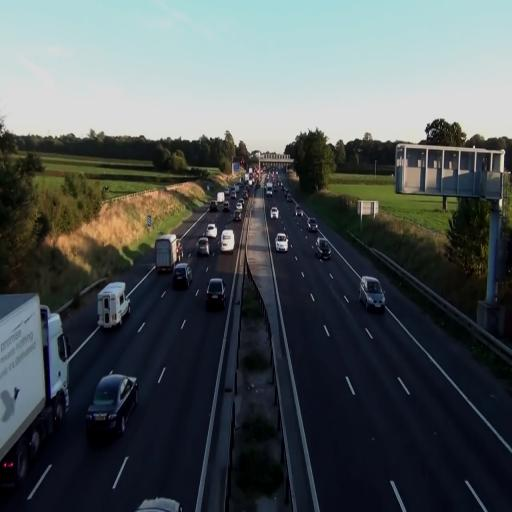vehicle: (0, 294, 70, 490), (86, 373, 138, 443), (97, 280, 131, 330), (97, 279, 130, 330), (155, 233, 181, 275), (359, 277, 385, 312), (135, 496, 181, 512), (205, 278, 226, 310), (172, 261, 191, 289), (205, 223, 219, 255), (315, 236, 332, 261), (220, 228, 235, 252), (275, 232, 289, 252), (196, 237, 210, 257), (270, 202, 280, 220), (308, 219, 318, 233)
